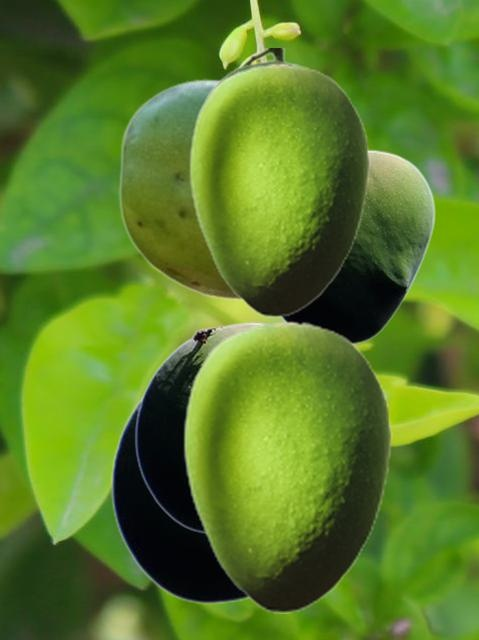green_mango: (182, 320, 391, 612), (188, 62, 369, 316), (278, 149, 435, 344), (110, 393, 249, 603), (134, 321, 271, 533), (118, 78, 240, 300), (193, 48, 296, 126)
